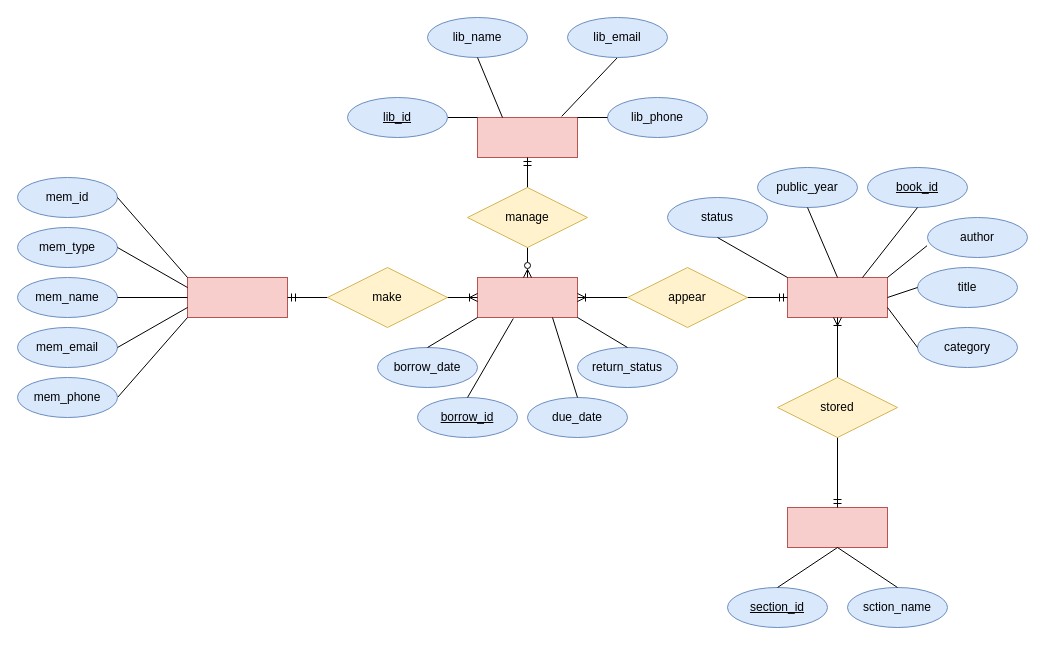
This 1045x645 diagram has some shape labels left out. The centre of each missing label's shape, as x and y in pixels:
book: point 837,297
borrowing: point 527,297
librarian: point 527,137
member: point 237,297
section: point 837,527
